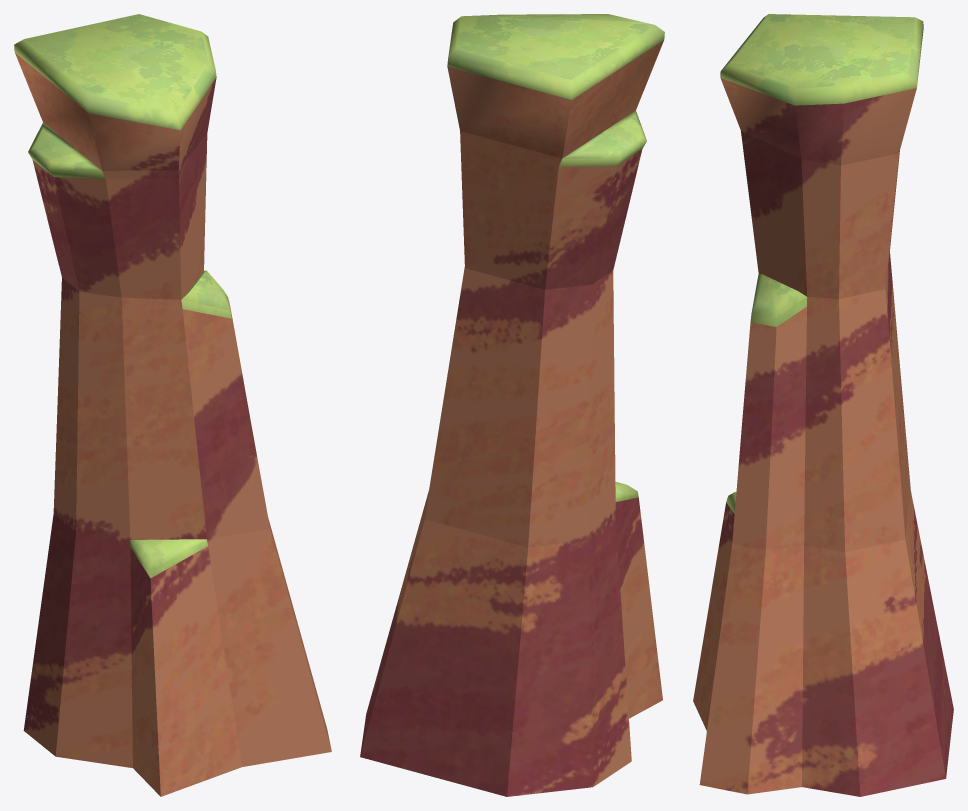
Rendered from rock1.fbx.
The picture shows the model from 3 angles, left to right: view 1: azimuth 30°, elevation 25°; view 2: azimuth 150°, elevation 25°; view 3: azimuth 270°, elevation 25°; orthographic projection. The views are drawn at different scales.
Parts seen in each view (by area): view 1: rock1; view 2: rock1; view 3: rock1.
Boxes of the visible parts, box(x1,y1,x2,y2) form: rock1: box(14, 14, 331, 796); rock1: box(360, 14, 664, 796); rock1: box(693, 14, 953, 796).
Size of the model in its own units: 229 by 602 by 212.
